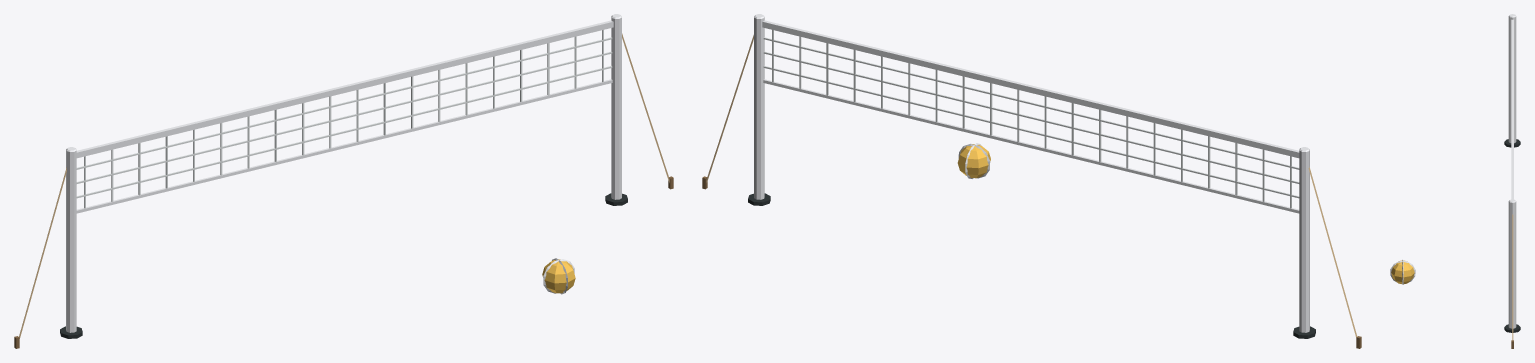
The model's file is volleyNet.glb.
3 views of the same model, side by side, from view 1: azimuth 30°, elevation 25°; view 2: azimuth 150°, elevation 25°; view 3: azimuth 270°, elevation 25° (orthographic). The views are drawn at different scales.
Parts seen in each view (by area): view 1: volleyNet-m; view 2: volleyNet-m; view 3: volleyNet-m.
Part boxes in pixels (x1=…): volleyNet-m: x1=14, y1=14, x2=673, y2=348; volleyNet-m: x1=702, y1=14, x2=1361, y2=348; volleyNet-m: x1=1390, y1=14, x2=1520, y2=348.
Size of the model in its own units: 9.65 by 2.61 by 2.38.
